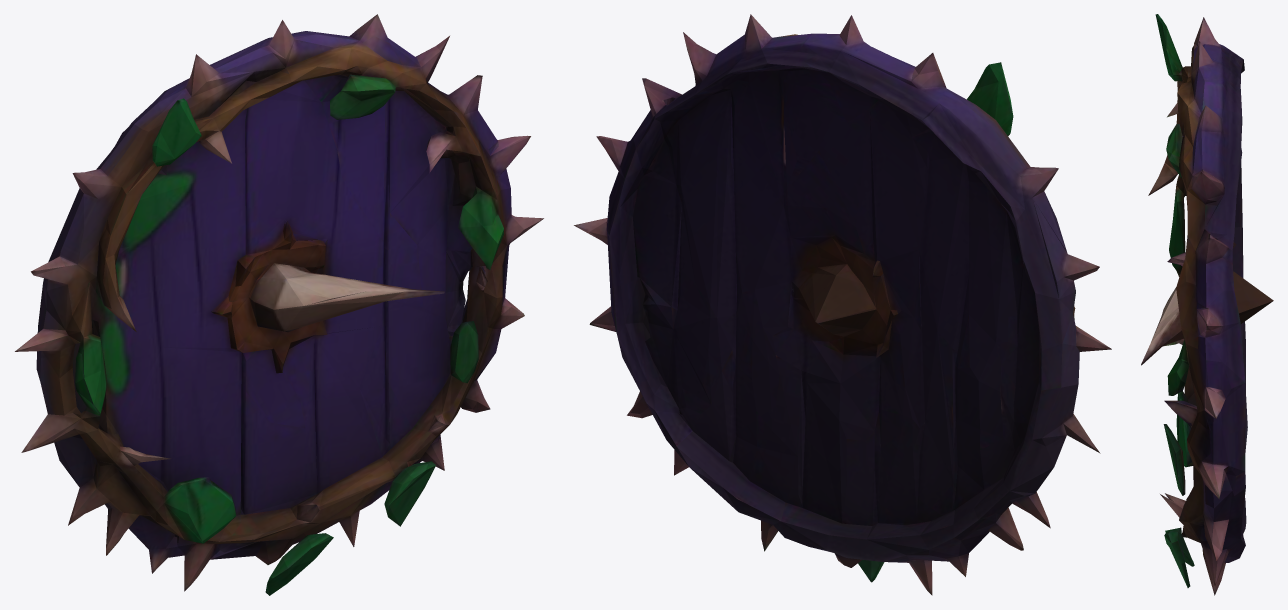
File: ronce_bouclier.glb
3 renders of one model, left to right at view 1: azimuth 30°, elevation 25°; view 2: azimuth 150°, elevation 25°; view 3: azimuth 270°, elevation 25°, orthographic. The views are drawn at different scales.
Visible parts, largest first — view 1: geometry_0; view 2: geometry_0; view 3: geometry_0.
Boxes of the visible parts, x1,y1,x2,y2 form: geometry_0: (15, 14, 543, 595); geometry_0: (574, 14, 1111, 595); geometry_0: (1141, 14, 1273, 595).
Bounding box in the file's own units: 0.9583 × 0.9728 × 0.2195.
1 material, 1 textured.
